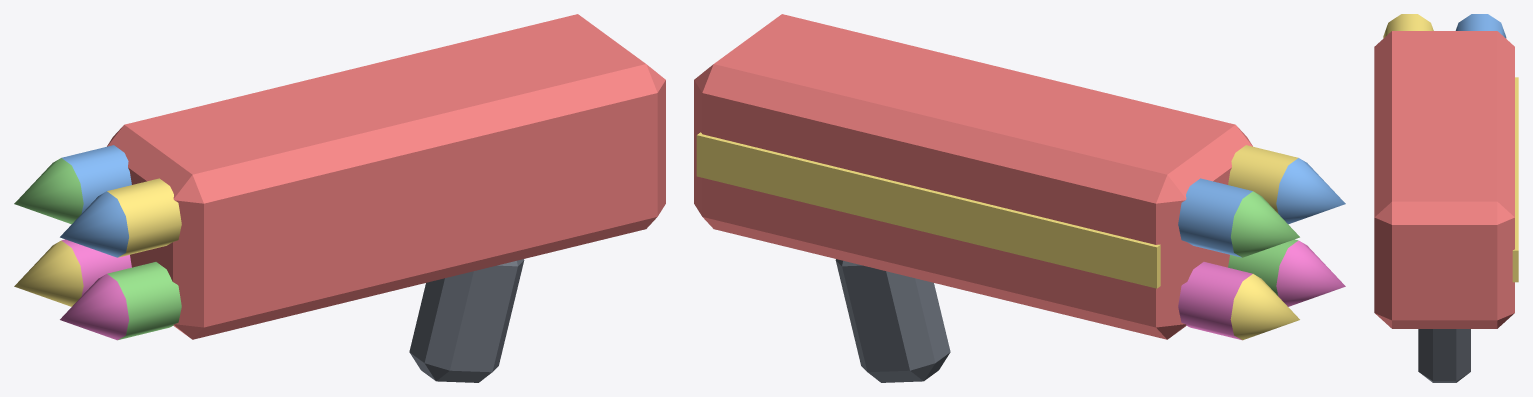
The model's file is Fireworks.fbx.
3 views of the same model, side by side, from view 1: azimuth 30°, elevation 25°; view 2: azimuth 150°, elevation 25°; view 3: azimuth 270°, elevation 25° (orthographic). The views are drawn at different scales.
Visible parts, largest first — view 1: Fireworks; view 2: Fireworks; view 3: Fireworks.
Boxes of the visible parts, x1,y1,x2,y2 form: Fireworks: [14, 14, 665, 382]; Fireworks: [694, 14, 1345, 382]; Fireworks: [1374, 14, 1518, 382].
Size of the model in its own units: 0.905 by 0.4419 by 0.246.
